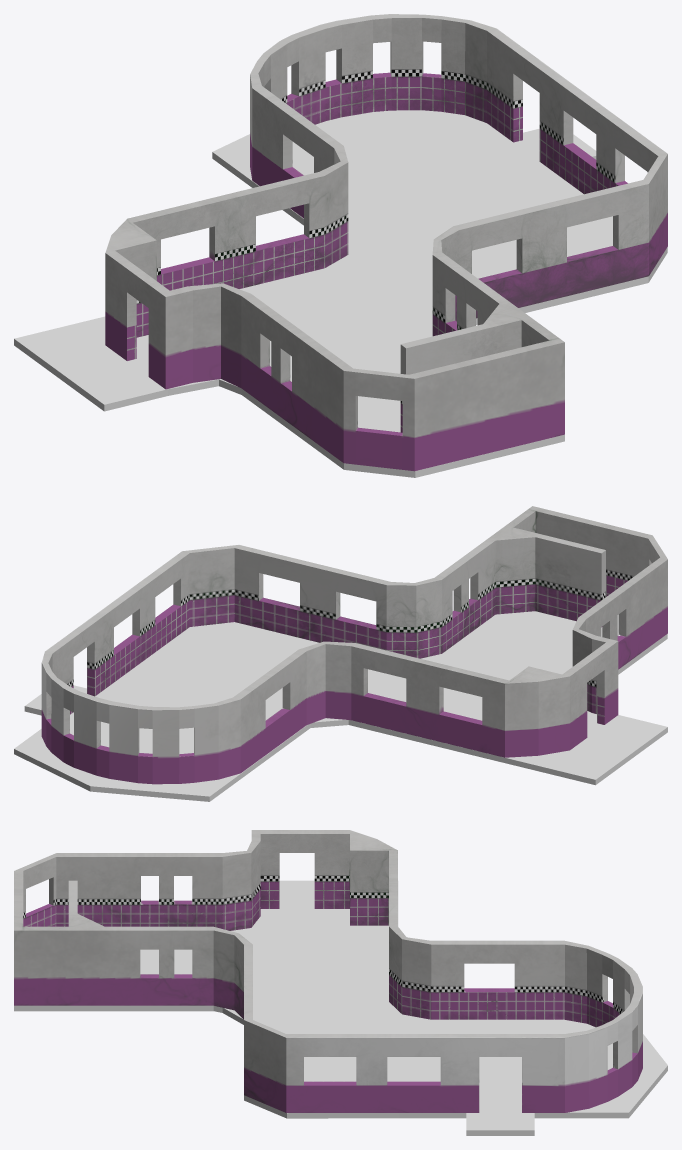
The model's file is Restaurante.fbx.
The picture shows the model from 3 angles, top to bottom: view 1: azimuth 30°, elevation 25°; view 2: azimuth 150°, elevation 25°; view 3: azimuth 270°, elevation 25°; orthographic projection. The views are drawn at different scales.
Parts seen in each view (by area): view 1: Paredes_V1.002, Suelo.001; view 2: Paredes_V1.002, Suelo.001; view 3: Paredes_V1.002, Suelo.001.
Boxes of the visible parts, x1,y1,x2,y2 form: Paredes_V1.002: [105, 14, 667, 471]; Suelo.001: [14, 110, 667, 477]; Paredes_V1.002: [41, 506, 667, 784]; Suelo.001: [14, 611, 667, 801]; Paredes_V1.002: [14, 830, 642, 1112]; Suelo.001: [14, 880, 667, 1135].
Size of the model in its own units: 1954 by 294 by 2163.
